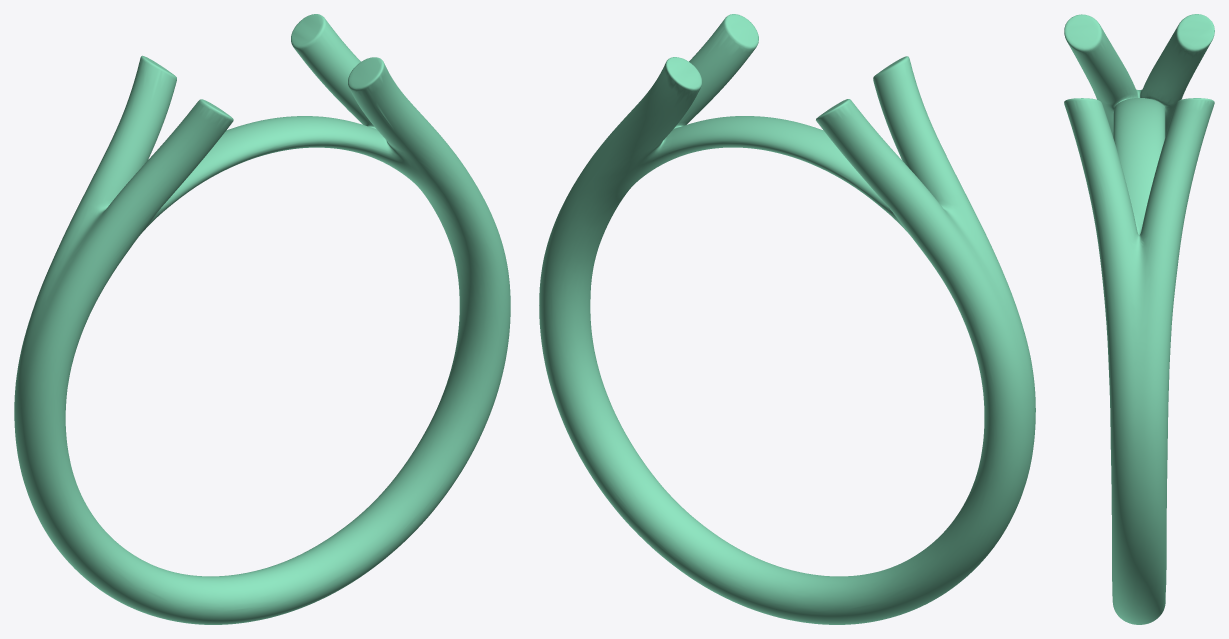
3 renders of one model, left to right at view 1: azimuth 30°, elevation 25°; view 2: azimuth 150°, elevation 25°; view 3: azimuth 270°, elevation 25°, orthographic. The views are drawn at different scales.
Parts seen in each view (by area): view 1: Metal02; view 2: Metal02; view 3: Metal02.
Part boxes in pixels (<box>): Metal02: <box>14,14,510,624</box>; Metal02: <box>539,14,1035,624</box>; Metal02: <box>1064,14,1214,624</box>.
Size of the model in its own units: 20.86 by 22.83 by 5.74.
